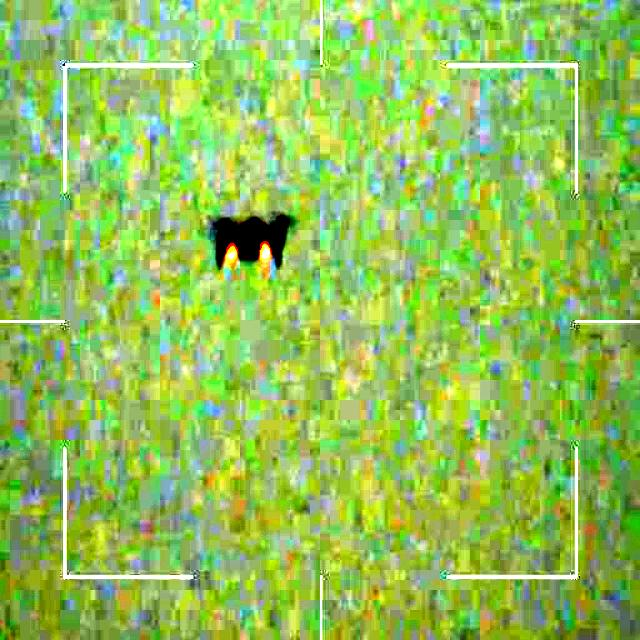bird: (210, 211, 294, 265)
